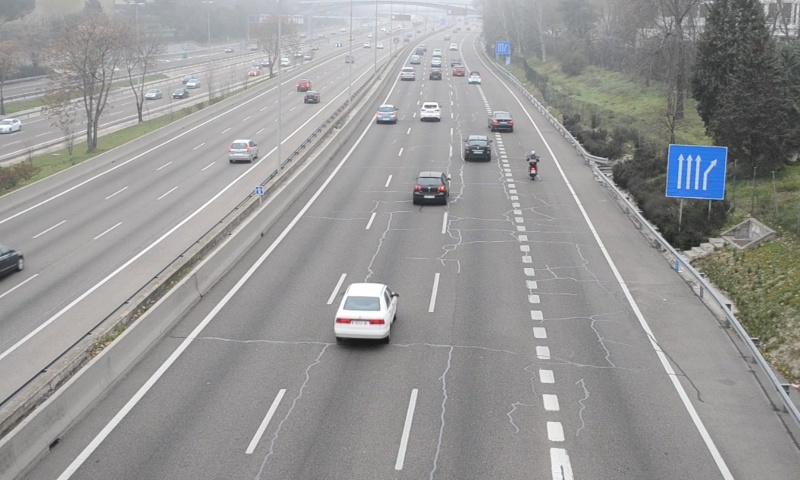car: (333, 283, 398, 340), (413, 172, 449, 204), (463, 136, 492, 163), (489, 111, 514, 134), (374, 104, 398, 123), (420, 102, 442, 120), (398, 65, 414, 82)
motorcycle: (526, 150, 540, 183)
